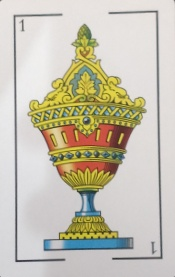1c: (12, 9, 159, 33)
